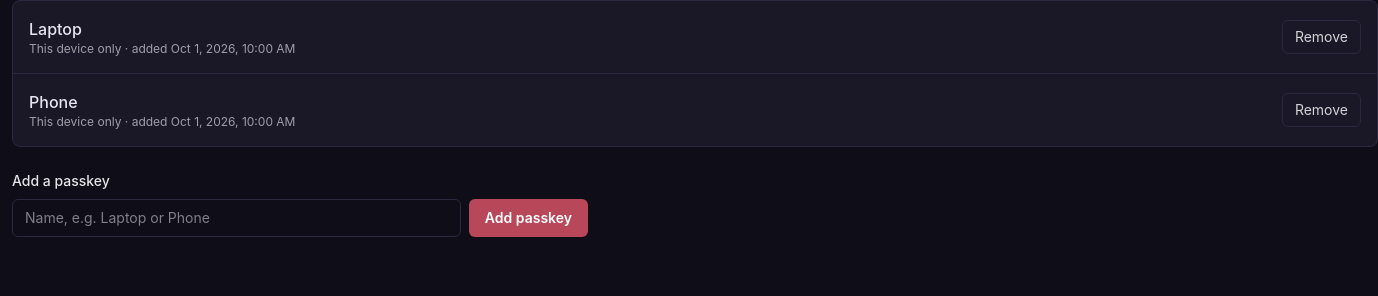
Test: PasskeyManager › shows a failed removal without refreshing
The image size is (1378, 296).
What coordinates should you click on to do the following:
click the button "Remove" in the row of "Laptop"
I would click on:
 (1321, 37)
Its box is left=1282, top=20, right=1361, bottom=54.
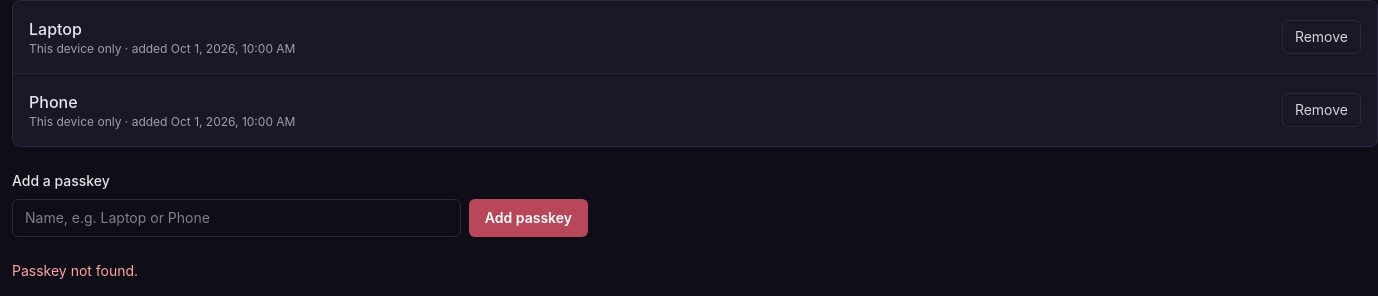
Expected: the message reads "Passkey not found.", left=12, top=262, right=138, bottom=279
